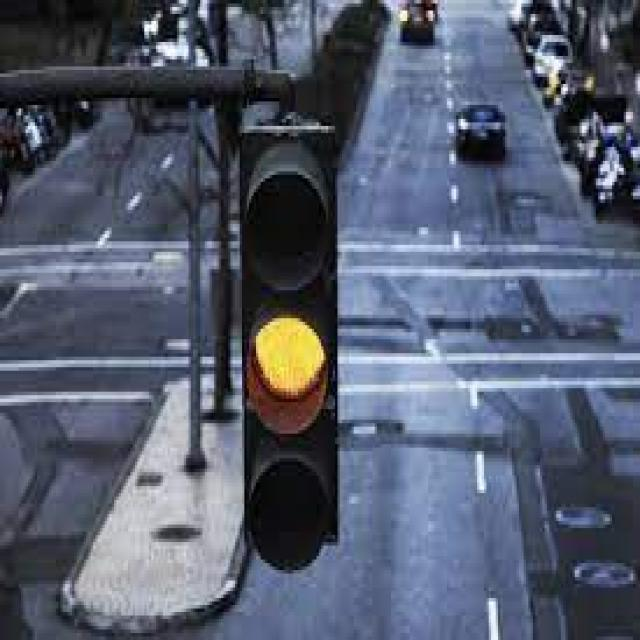yellow: (234, 121, 338, 567)
